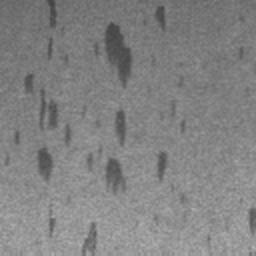Red iron sheet: (4, 0, 186, 196), (49, 218, 99, 256), (248, 207, 256, 233), (238, 46, 246, 60)
